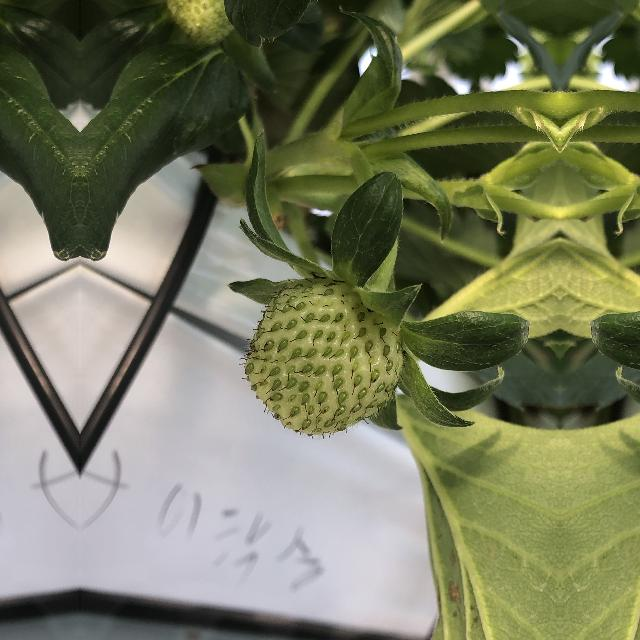Health_25: (232, 260, 416, 444)
